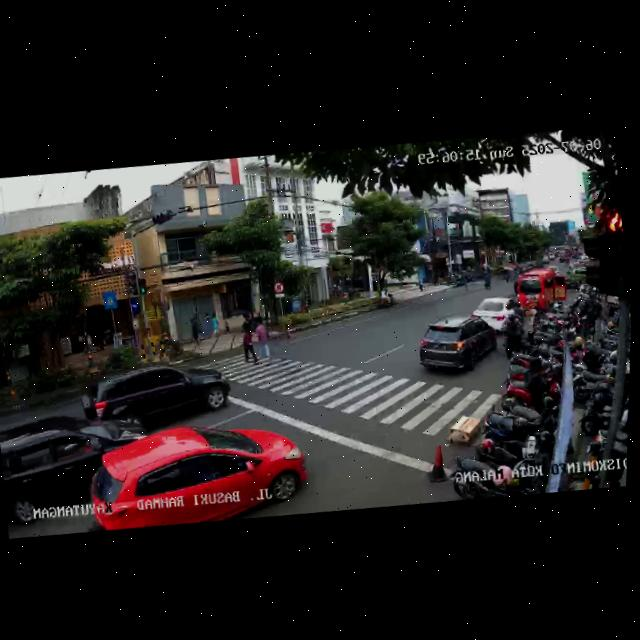car: (80, 408, 312, 539), (0, 407, 153, 529), (79, 350, 237, 444), (413, 312, 503, 383), (514, 264, 569, 316), (469, 289, 526, 338), (566, 255, 591, 281)
motorcycle: (497, 311, 530, 359)
person: (236, 322, 261, 366), (254, 316, 270, 360)
